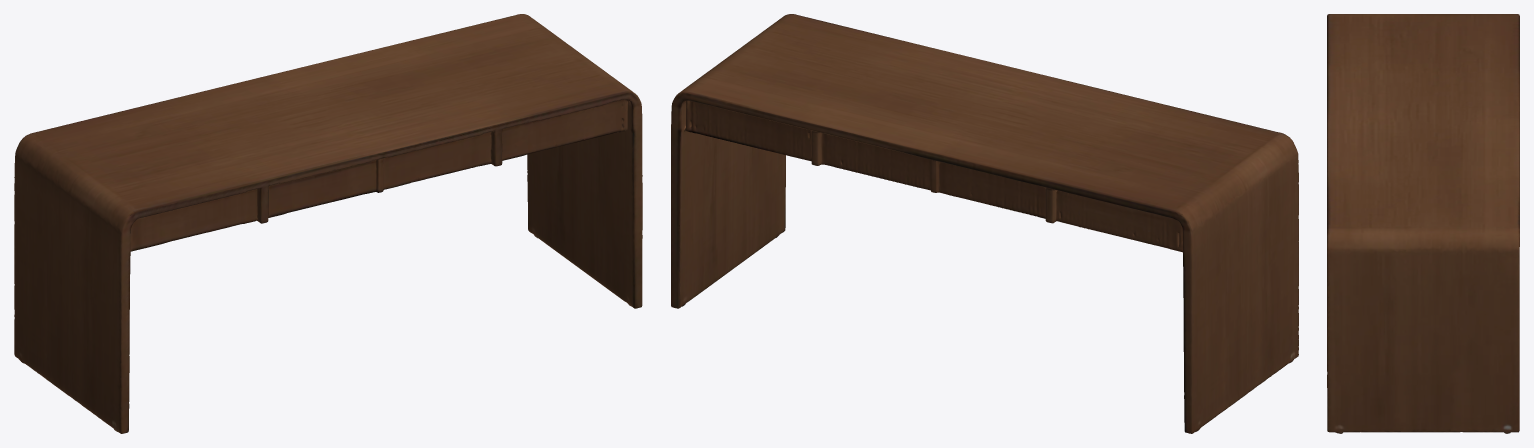
The model's file is Modern Fluted Wood Waterfall Desk [w25N5X].glb.
The picture shows the model from 3 angles, left to right: view 1: azimuth 30°, elevation 25°; view 2: azimuth 150°, elevation 25°; view 3: azimuth 270°, elevation 25°; orthographic projection. The views are drawn at different scales.
Parts seen in each view (by area): view 1: world; view 2: world; view 3: world.
Part boxes in pixels (x1=…): world: x1=14, y1=14, x2=642, y2=433; world: x1=671, y1=14, x2=1298, y2=433; world: x1=1327, y1=14, x2=1519, y2=433.
Size of the model in its own units: 1 by 0.4082 by 0.3586.
Materials: 1 (1 with a texture image).
